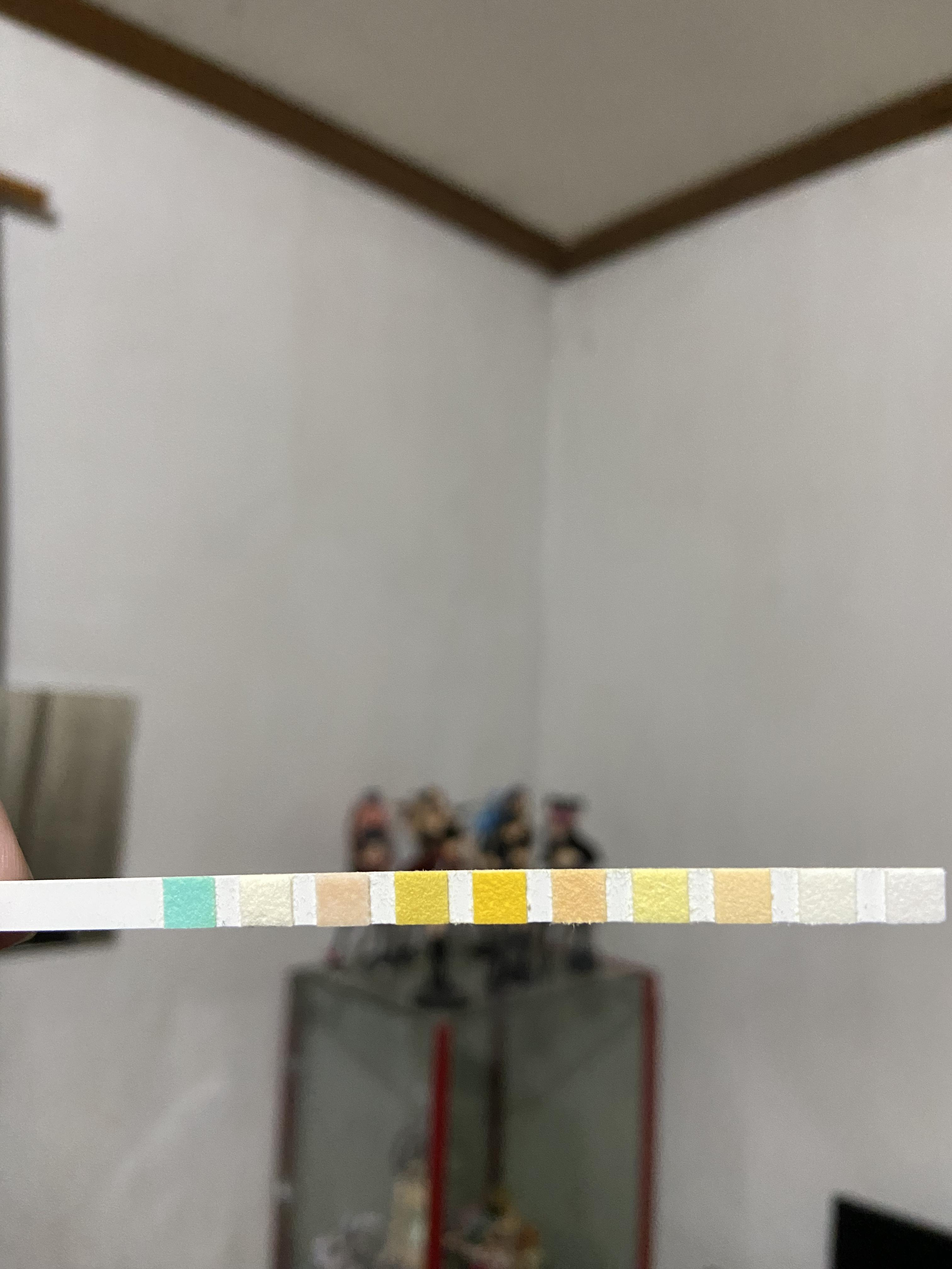Bilirubin: (241, 876, 292, 925)
Blood: (474, 872, 527, 924)
Glucose: (163, 878, 215, 927)
Ketone: (318, 875, 368, 924)
Leukocytes: (888, 870, 943, 922)
Nitrite: (801, 870, 856, 922)
Protein: (634, 869, 687, 923)
SpGravity: (395, 873, 448, 924)
Urobilinogen: (713, 868, 771, 924)
pH: (553, 871, 605, 924)
strip: (0, 868, 945, 934)
